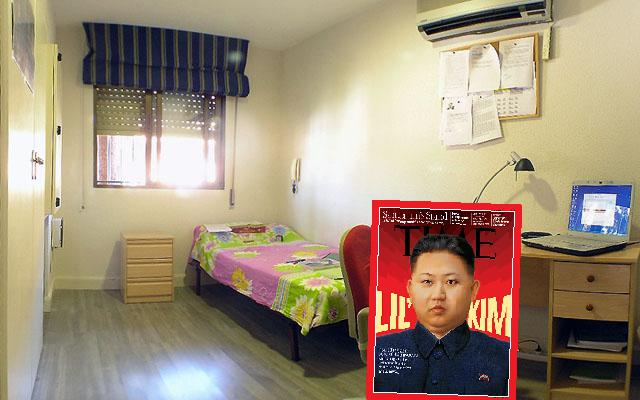times: (365, 199, 523, 400)
